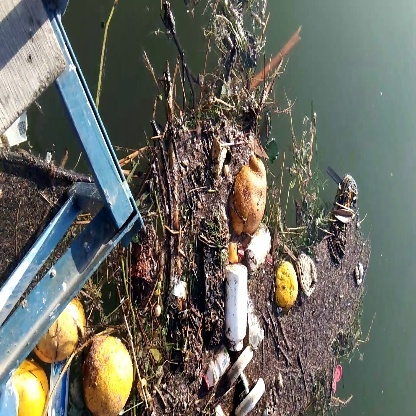ball: (83, 335, 140, 416)
bottle: (222, 259, 251, 356)
branch: (249, 22, 308, 96)
